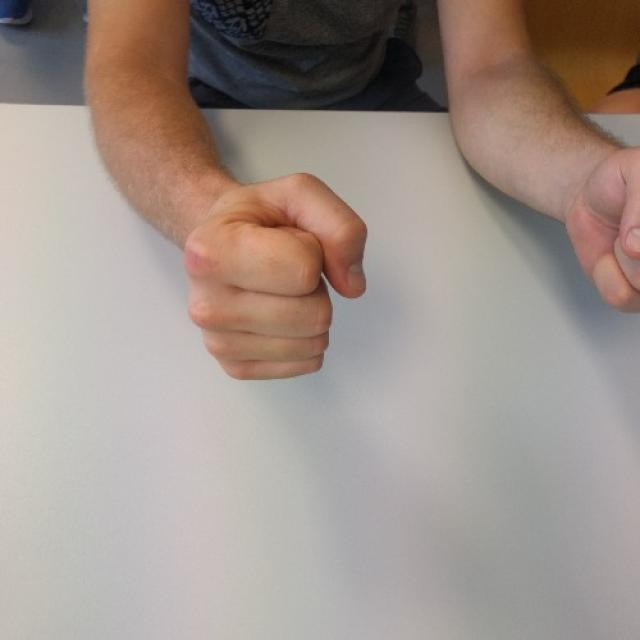fist: (174, 162, 382, 392), (559, 136, 640, 322)
